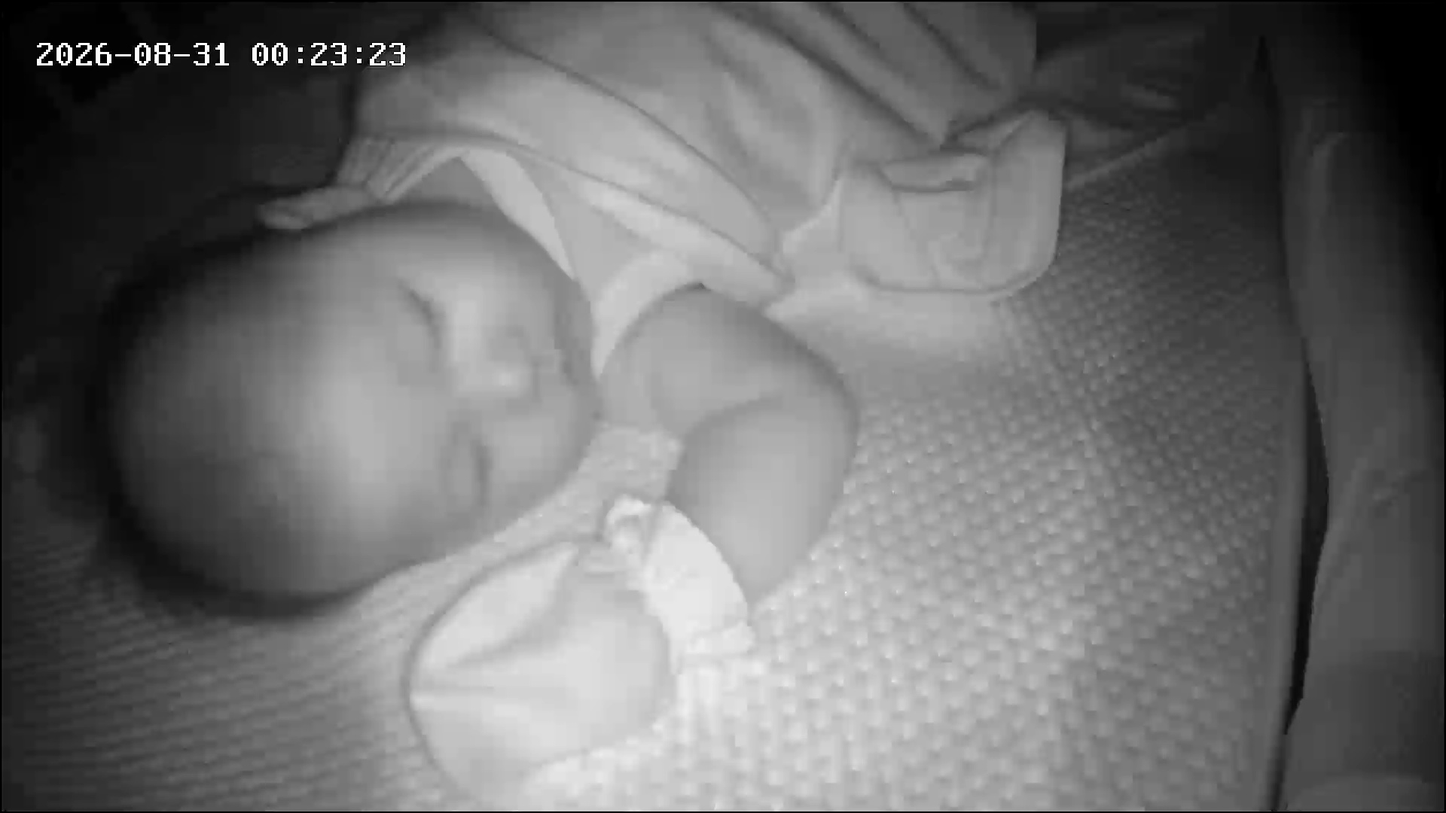baby: (24, 0, 985, 710)
baby_face: (38, 164, 618, 639)
